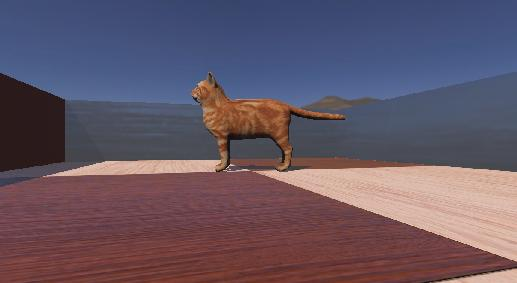Cat: (172, 65, 350, 178)
